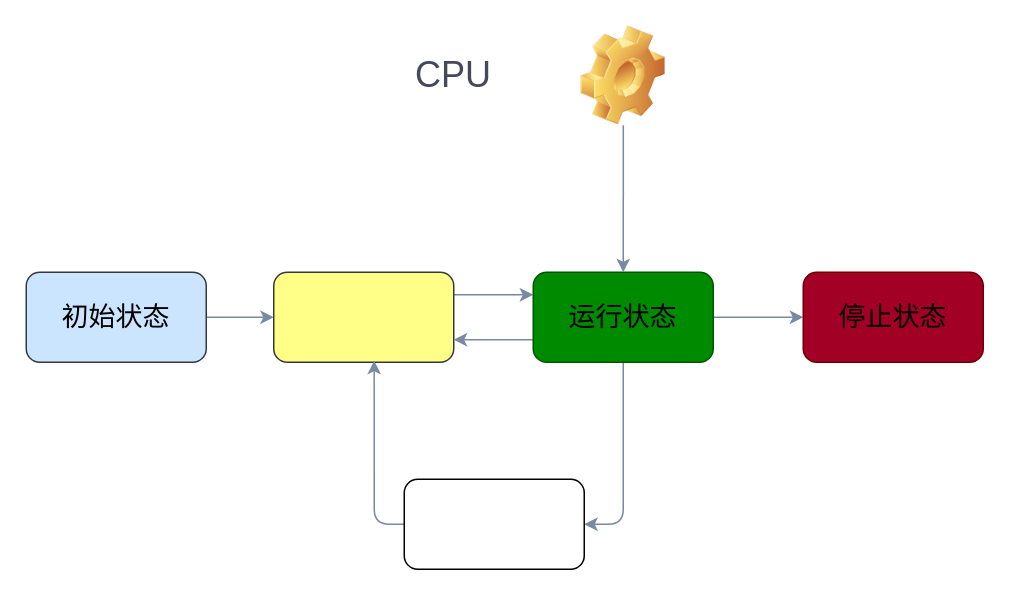
The diagram is 1010 pixels wide and 596 high, and some of its shapes have lost their labels. Each missing label, with the centre of its shape:
"可运行状态" belongs at point (363, 316).
"阻塞状态" belongs at point (493, 523).
